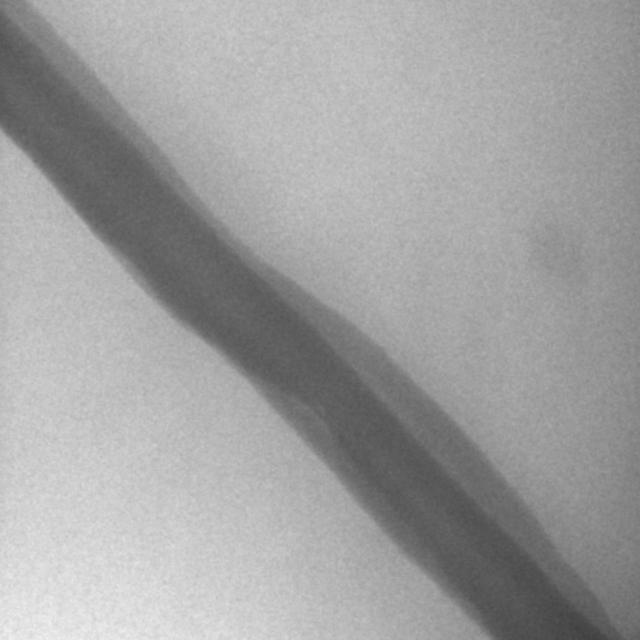unfused: (258, 382, 351, 472)
